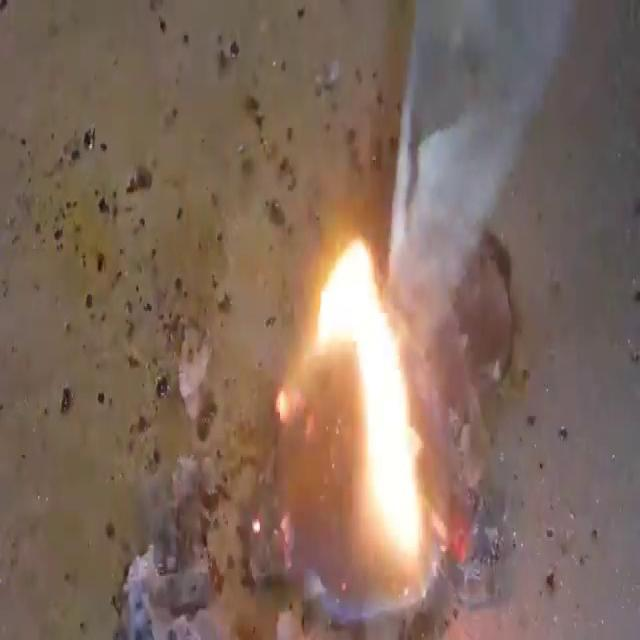Fire: (276, 230, 439, 614)
